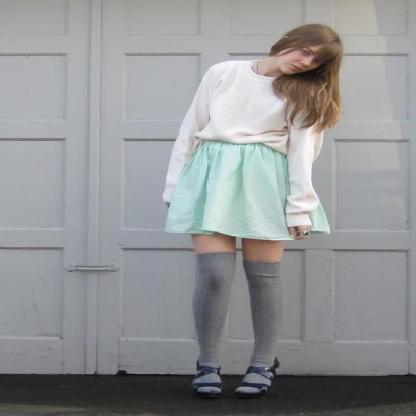shirt: (168, 60, 322, 211)
shoe: (182, 361, 276, 402)
skirt: (162, 136, 307, 240)
